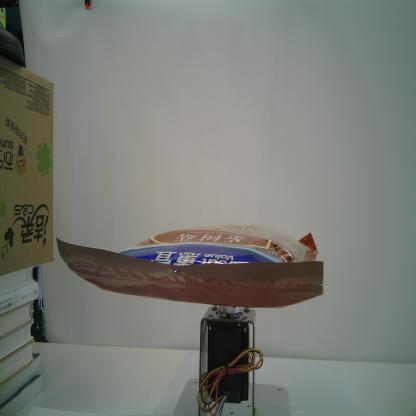Dried Food: (55, 225, 326, 310)
